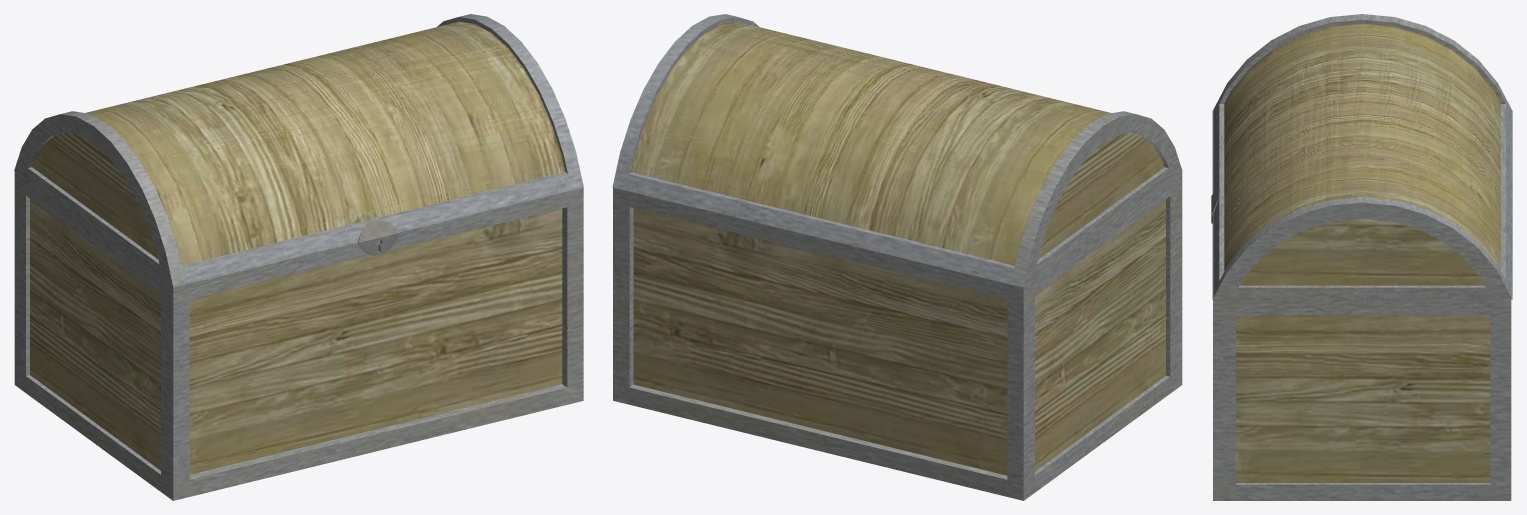
File: chest.glb
3 renders of one model, left to right at view 1: azimuth 30°, elevation 25°; view 2: azimuth 150°, elevation 25°; view 3: azimuth 270°, elevation 25°, orthographic. The views are drawn at different scales.
Visible parts, largest first — view 1: group_1.002, group_0.005, group_0.002, group_0.006, group_1.007, group_1.001, group_1.003, group_0.007, group_1.004; view 2: group_1.002, group_0.008, group_0.002, group_0.006, group_1.007, group_1.001, group_1.003, group_0.009, group_0.007, group_1.004; view 3: group_1.002, group_0.003, group_0.002, group_1.001, group_1.005, group_1.007, group_1.006, group_0.004.
Boxes of the visible parts, x1,y1,x2,y2 form: group_1.002: (85,21,565,265); group_0.005: (189,208,562,474); group_0.002: (14,170,583,500); group_0.006: (30,199,160,470); group_1.007: (182,14,583,284); group_1.001: (14,111,567,287); group_1.003: (32,133,158,258); group_0.007: (26,196,160,474); group_1.004: (28,133,159,263); group_1.002: (631,21,1111,265); group_0.008: (633,208,1007,475); group_0.002: (613,170,1182,500); group_0.006: (1035,199,1165,471); group_1.007: (612,14,1014,284); group_1.001: (1011,111,1182,287); group_1.003: (1038,133,1164,259); group_0.009: (629,207,1007,479); group_0.007: (1035,196,1170,475); group_1.004: (1037,133,1168,264); group_1.002: (1224,23,1500,270); group_0.003: (1236,315,1490,482); group_0.002: (1213,110,1511,500); group_1.001: (1212,14,1512,299); group_1.005: (1240,219,1485,285); group_1.007: (1212,104,1512,298); group_1.006: (1239,285,1486,287); group_0.004: (1236,483,1490,484).
Size of the model in its own units: 0.5472 by 0.4036 by 0.3694.
4 materials, 4 textured.
